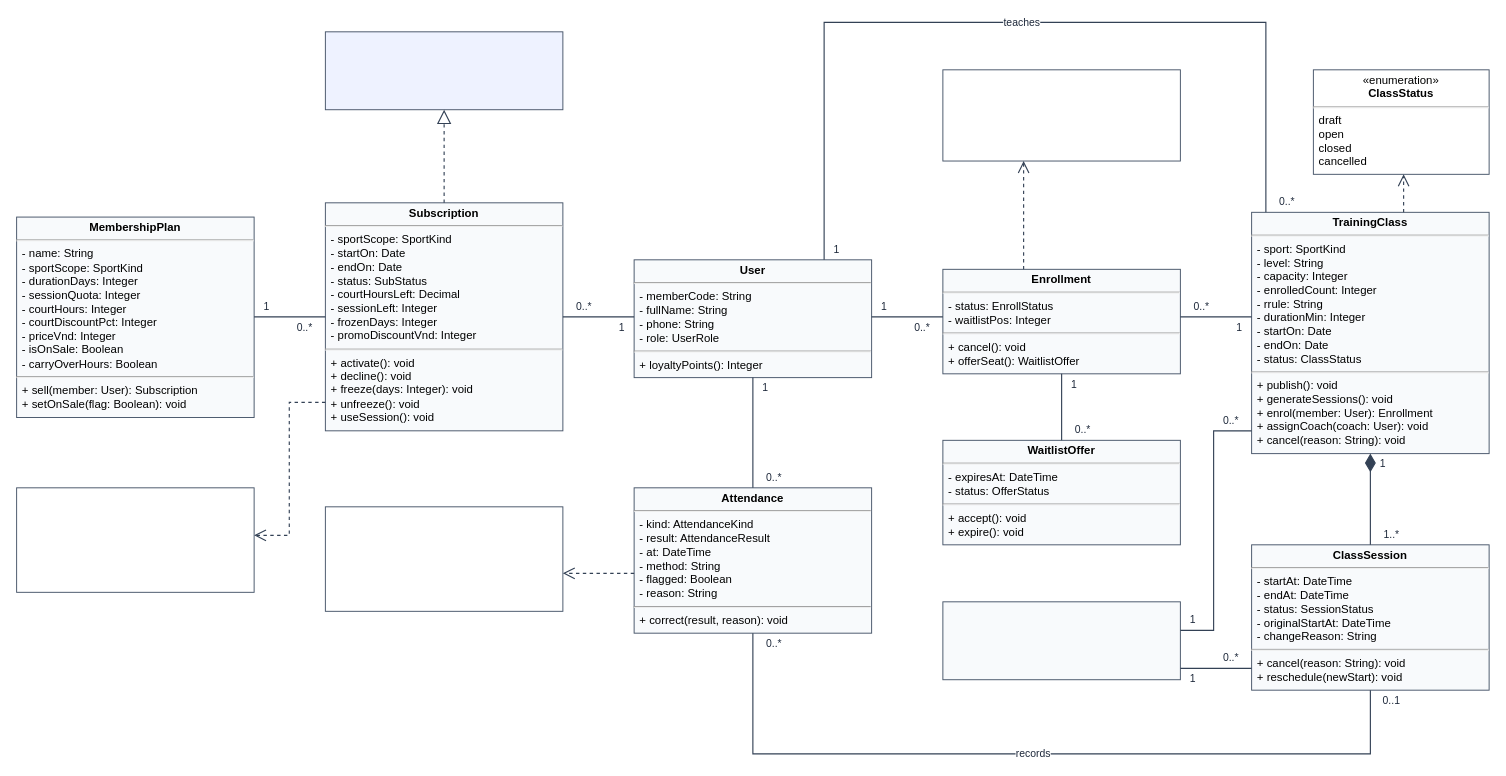
The diagram is 1506 pixels wide and 776 high, and some of its shapes have lost their labels. The shapes that lost their labels are listed below. From the top down, each one's box as (x1, y1, x2, y2) in pixels, then its label:
(324, 31, 563, 110): «interface» Payable + amountDue(): Integer + settle(payment: Payment): void
(942, 69, 1180, 161): «enumeration» EnrollStatus confirmed waitlisted cancelled
(16, 487, 254, 592): «enumeration» SubStatus pending active expired frozen
(324, 506, 563, 611): «enumeration» AttendanceResult present late absent excused
(942, 601, 1180, 680): Court - courtCode: String - sport: SportKind - status: CourtStatus
